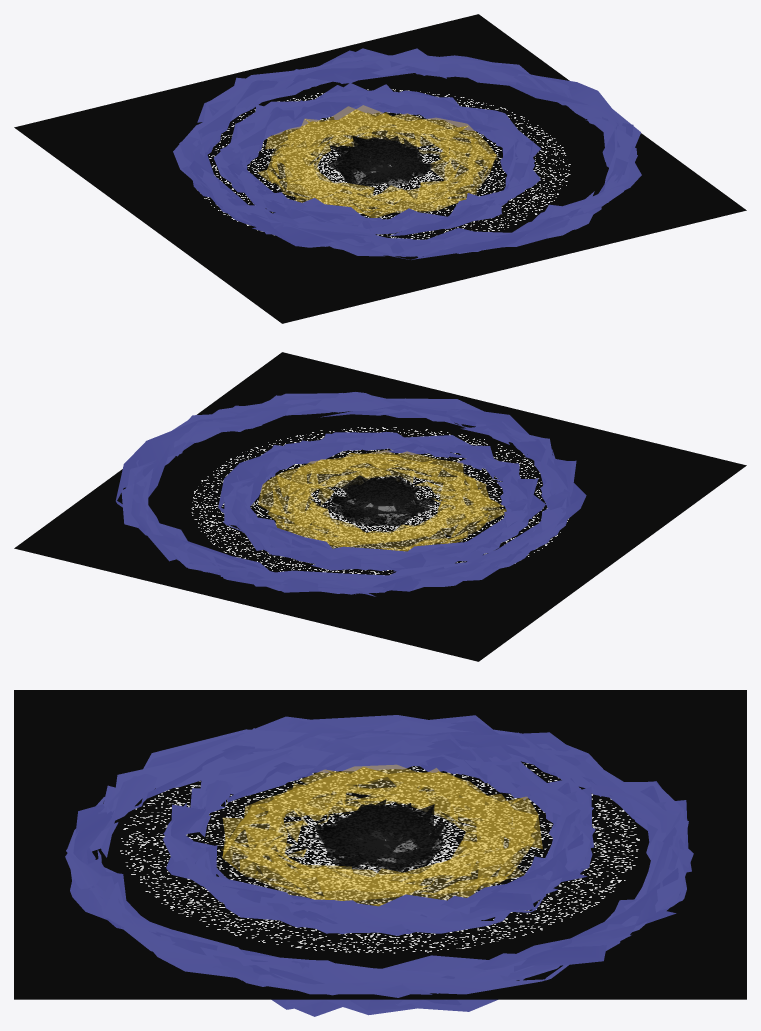
File: andromeda-v2.dae
The picture shows the model from 3 angles, top to bottom: view 1: azimuth 30°, elevation 25°; view 2: azimuth 150°, elevation 25°; view 3: azimuth 270°, elevation 25°; orthographic projection. The views are drawn at different scales.
Visible parts, largest first — view 1: Stars, Outer-arm, Arm-2, Arm-1, Core; view 2: Stars, Outer-arm, Arm-2, Arm-1, Core; view 3: Stars, Outer-arm, Arm-2, Arm-1, Core.
Boxes of the visible parts, box(x1,y1,x2,y2) form: Stars: box(14, 14, 746, 323); Outer-arm: box(173, 48, 641, 259); Arm-2: box(214, 83, 540, 236); Arm-1: box(258, 105, 496, 217); Core: box(327, 136, 436, 188); Stars: box(14, 352, 746, 661); Outer-arm: box(115, 392, 586, 596); Arm-2: box(218, 431, 545, 571); Arm-1: box(258, 450, 506, 551); Core: box(328, 475, 434, 525); Stars: box(14, 690, 746, 999); Outer-arm: box(65, 715, 693, 1016); Arm-2: box(163, 733, 595, 935); Arm-1: box(221, 765, 542, 906); Core: box(315, 799, 446, 872).
Size of the model in its own units: 30 by 2.97 by 30.
